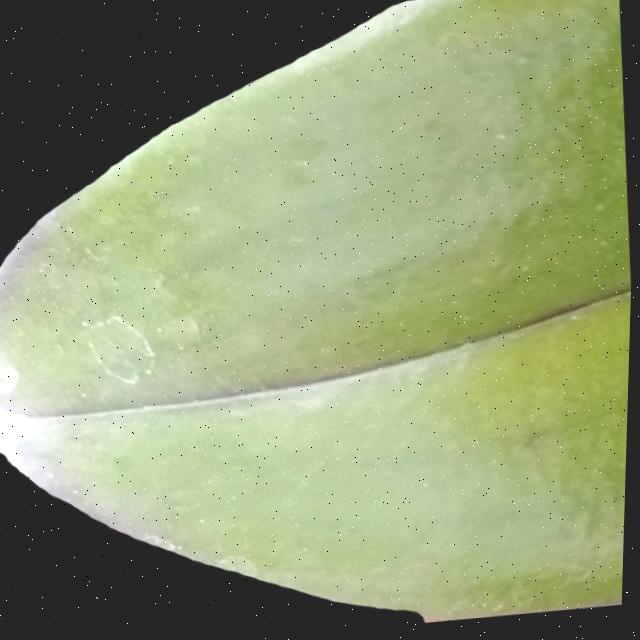mite: (68, 258, 210, 391), (153, 270, 170, 288), (593, 202, 608, 214), (227, 493, 241, 505), (197, 515, 210, 527), (597, 239, 611, 250), (481, 600, 493, 611)
